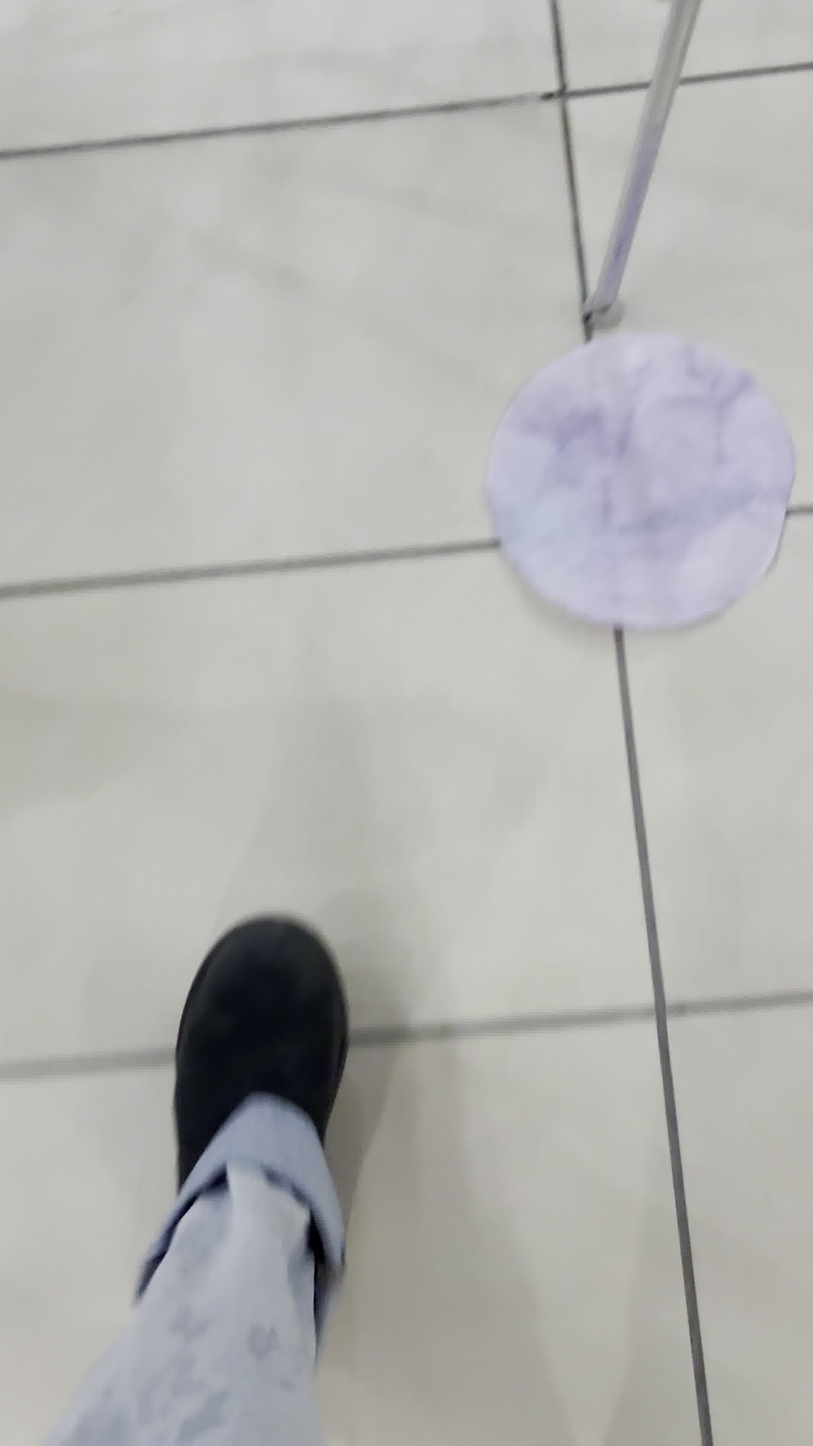Target: (482, 346, 791, 625)
